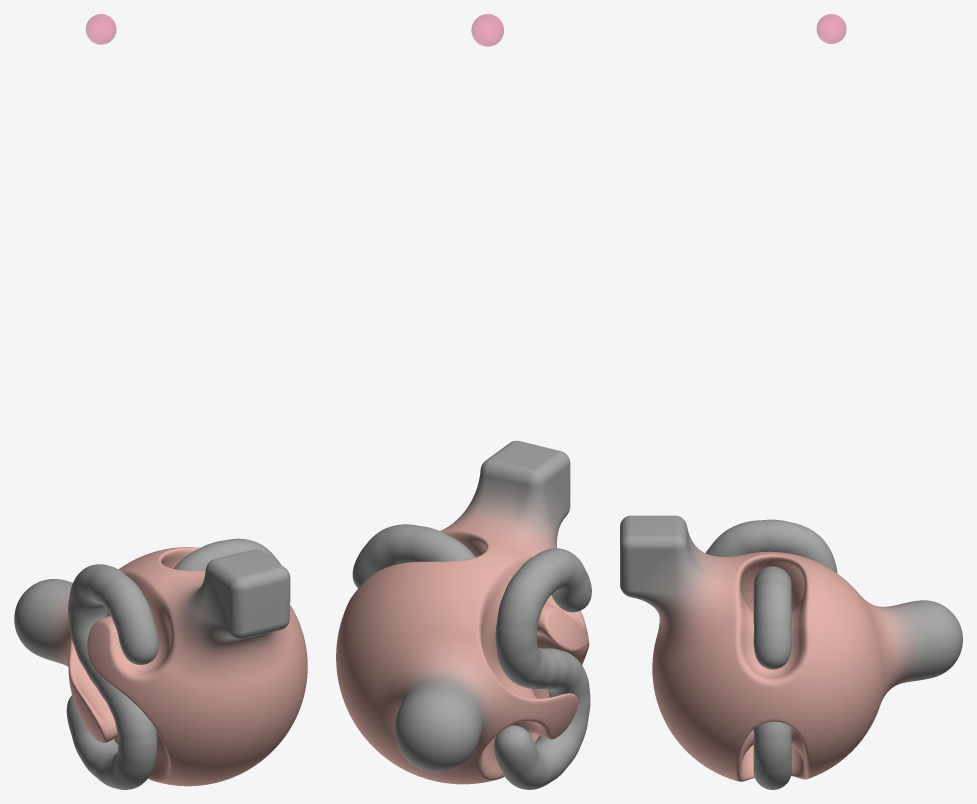
3 views of the same model, side by side, from view 1: azimuth 30°, elevation 25°; view 2: azimuth 150°, elevation 25°; view 3: azimuth 270°, elevation 25° (orthographic). The views are drawn at different scales.
Parts seen in each view (by area): view 1: Area (1), Area (2); view 2: Area (1), Area (2); view 3: Area (1), Area (2).
Part boxes in pixels (x1=…): Area (1): x1=14, y1=538, x2=307, y2=789; Area (2): x1=86, y1=14, x2=116, y2=44; Area (1): x1=336, y1=440, x2=591, y2=789; Area (2): x1=471, y1=14, x2=503, y2=46; Area (1): x1=620, y1=515, x2=962, y2=789; Area (2): x1=817, y1=14, x2=846, y2=43.
Bounding box in the file's own units: 1.34 × 4.66 × 1.98.
2 materials, 2 textured.
